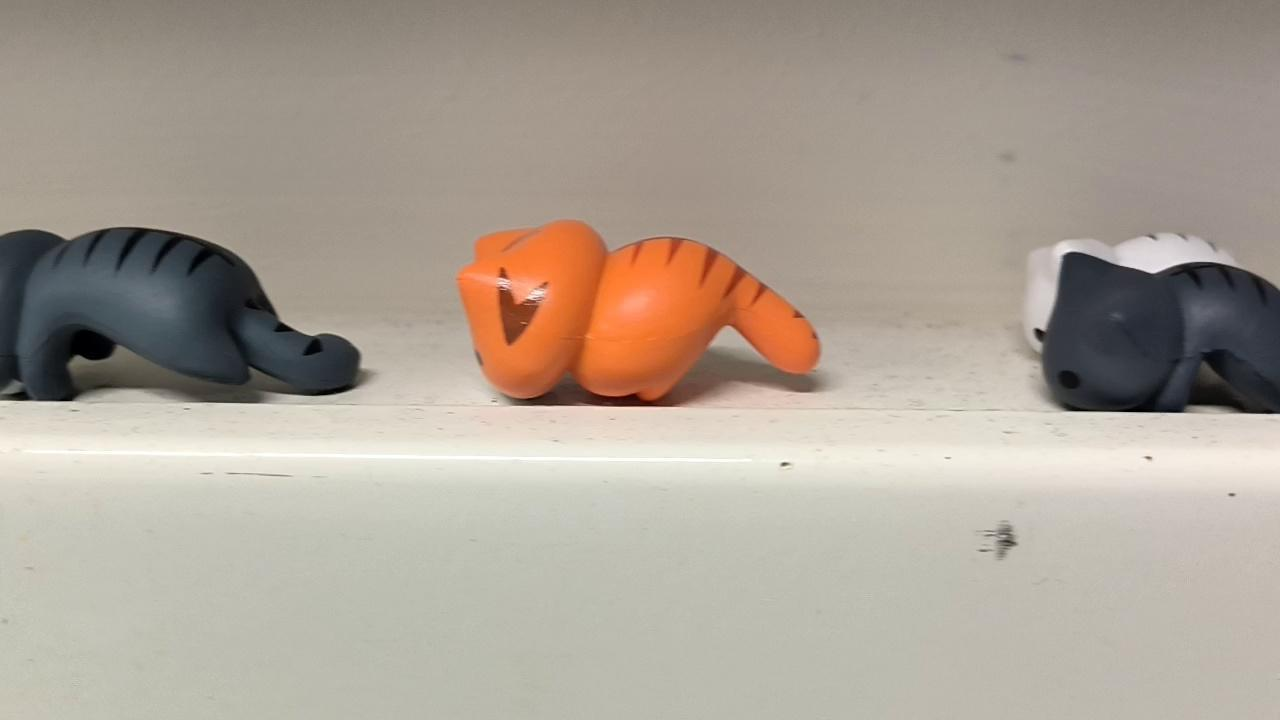pet: (446, 214, 826, 406), (0, 217, 367, 407), (1026, 252, 1280, 425)
